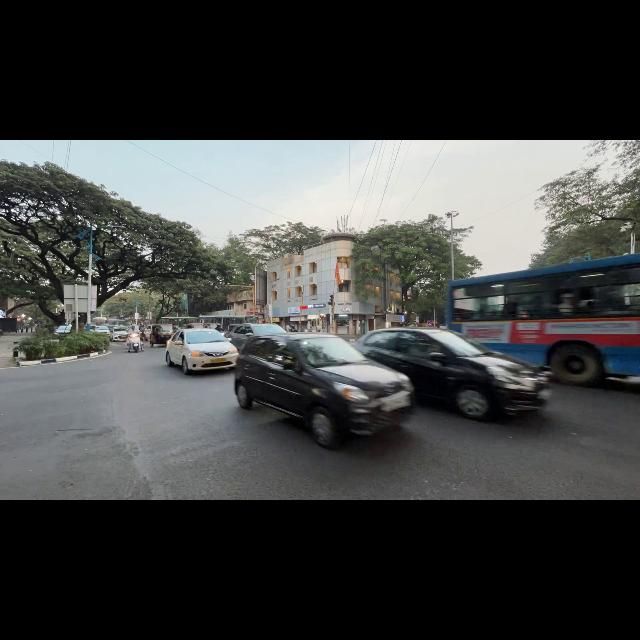bus: (447, 255, 639, 383), (200, 315, 258, 331), (160, 317, 198, 327)
car: (235, 333, 413, 448), (352, 328, 550, 419), (166, 329, 238, 374), (226, 324, 286, 349), (110, 326, 130, 341), (54, 325, 72, 336), (142, 324, 152, 340), (94, 326, 110, 334), (183, 323, 205, 328)
motorcycle: (127, 334, 141, 352)
